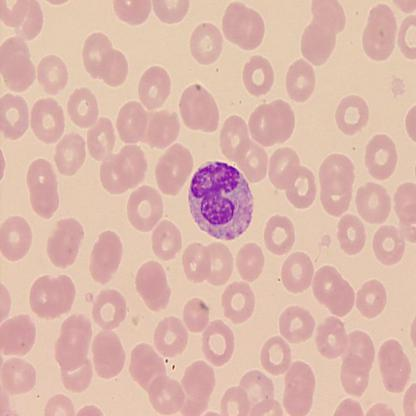Monocyte: (186, 160, 256, 242)
